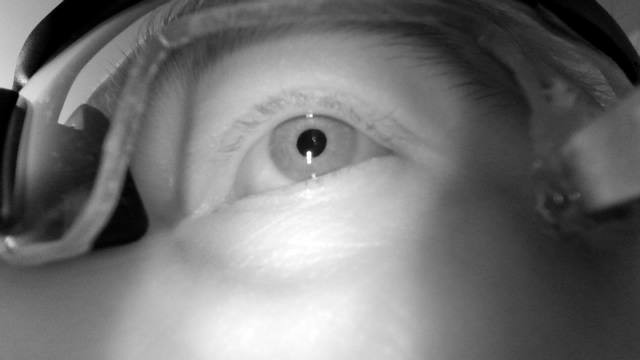pupil: (296, 128, 328, 159)
